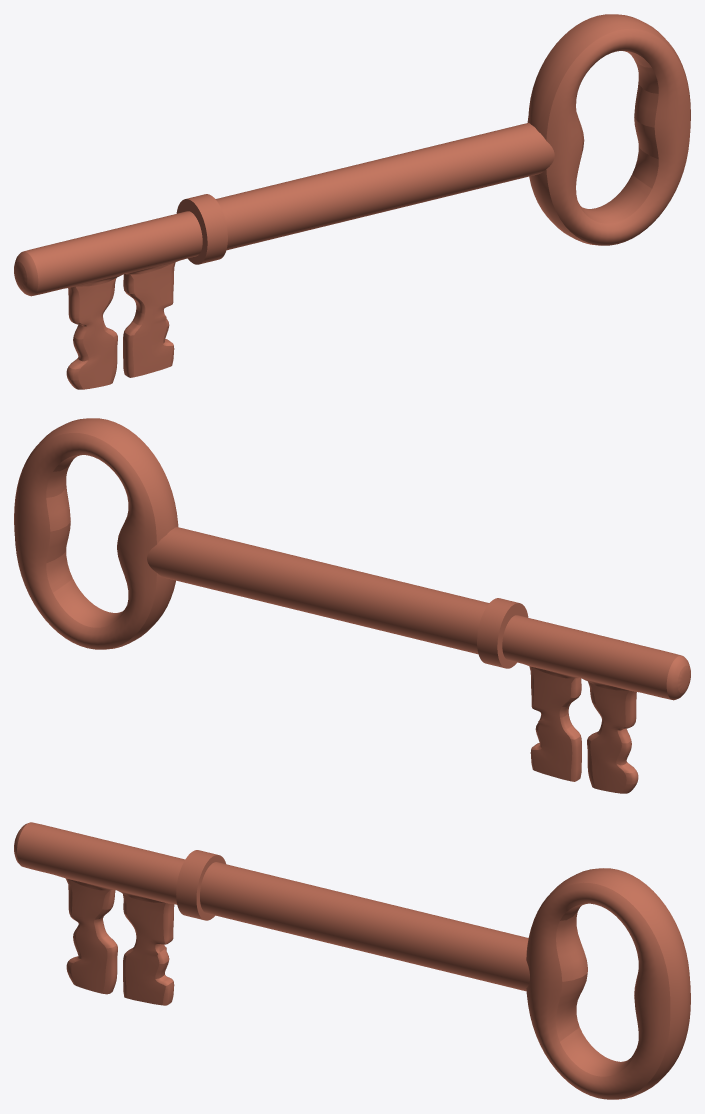
The model's file is key.fbx.
3 renders of one model, top to bottom at view 1: azimuth 30°, elevation 25°; view 2: azimuth 150°, elevation 25°; view 3: azimuth 330°, elevation 25°, orthographic.
Visible parts, largest first — view 1: Insert, Key; view 2: Insert, Key; view 3: Insert, Key.
Part boxes in pixels (x1,y1,x2,y2): Insert: [14, 123, 554, 389]; Key: [527, 14, 690, 245]; Insert: [147, 527, 690, 793]; Key: [14, 418, 178, 649]; Insert: [14, 822, 529, 1005]; Key: [526, 868, 690, 1099].
Bounding box in the file's own units: 436 × 150 × 35.53.
